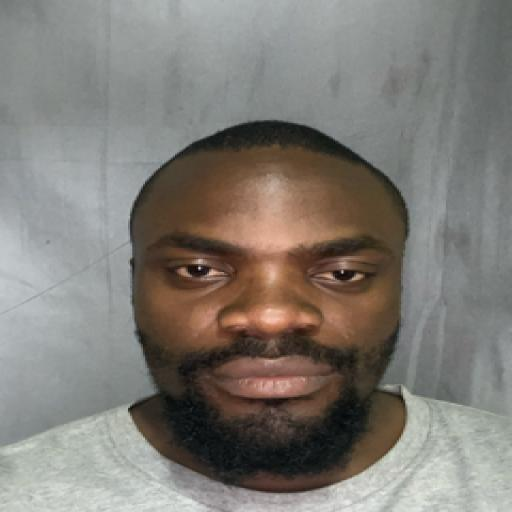JEANLUC: (130, 112, 404, 476)
